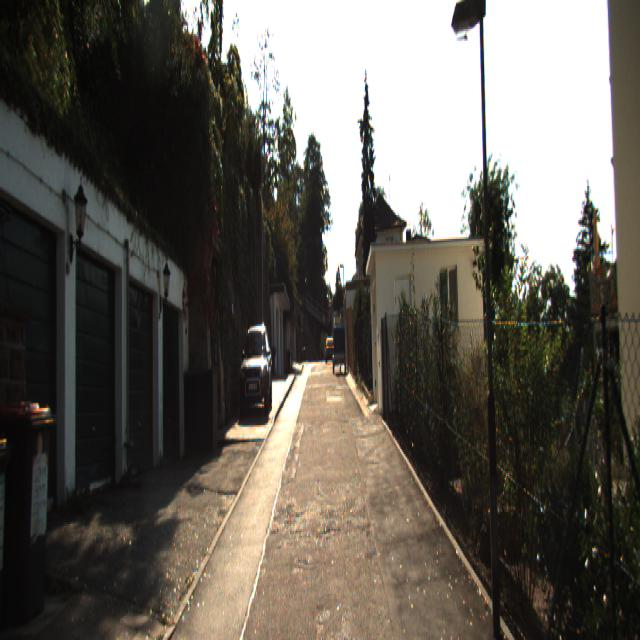Car: (238, 327, 273, 417), (332, 325, 347, 375)
